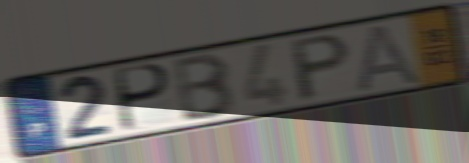2: (56, 72, 118, 144)
4: (241, 39, 291, 110)
A: (355, 21, 424, 95)
B: (172, 50, 239, 124)
P: (288, 31, 353, 106), (114, 62, 174, 135)
